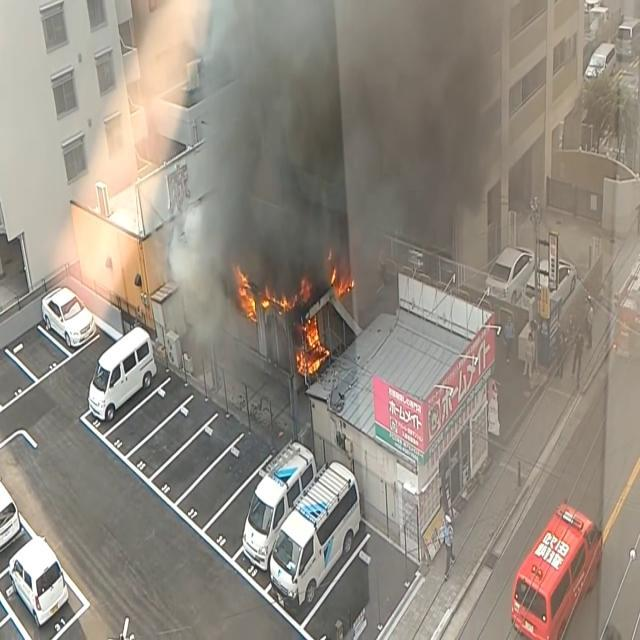Fire: (234, 268, 294, 322), (296, 310, 328, 380)
Smoke: (123, 0, 530, 351)
